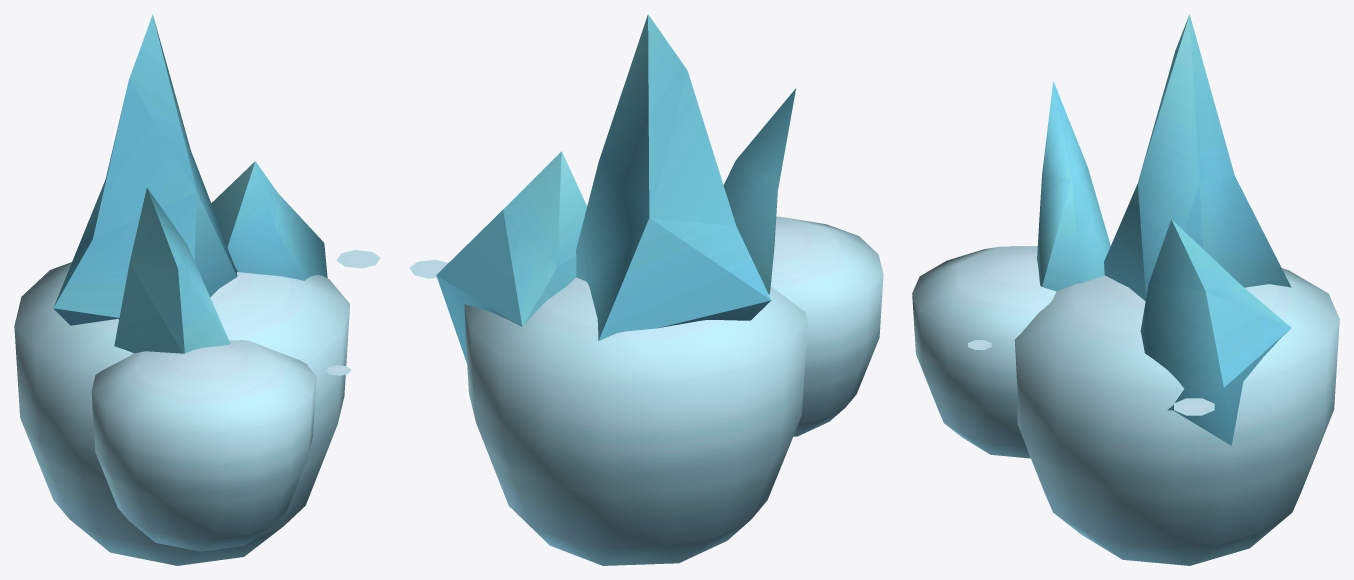
Rendered from WallCorner-002_40_24_8636.fbx.
The picture shows the model from 3 angles, left to right: view 1: azimuth 30°, elevation 25°; view 2: azimuth 150°, elevation 25°; view 3: azimuth 270°, elevation 25°; orthographic projection. The views are drawn at different scales.
Visible parts, largest first — view 1: Corner; view 2: Corner; view 3: Corner.
Boxes of the visible parts, box(x1,y1,x2,y2) form: Corner: box(14, 14, 380, 565); Corner: box(409, 14, 883, 565); Corner: box(912, 14, 1339, 565).
Bounding box in the file's own units: 3.79 × 5.18 × 3.99.
